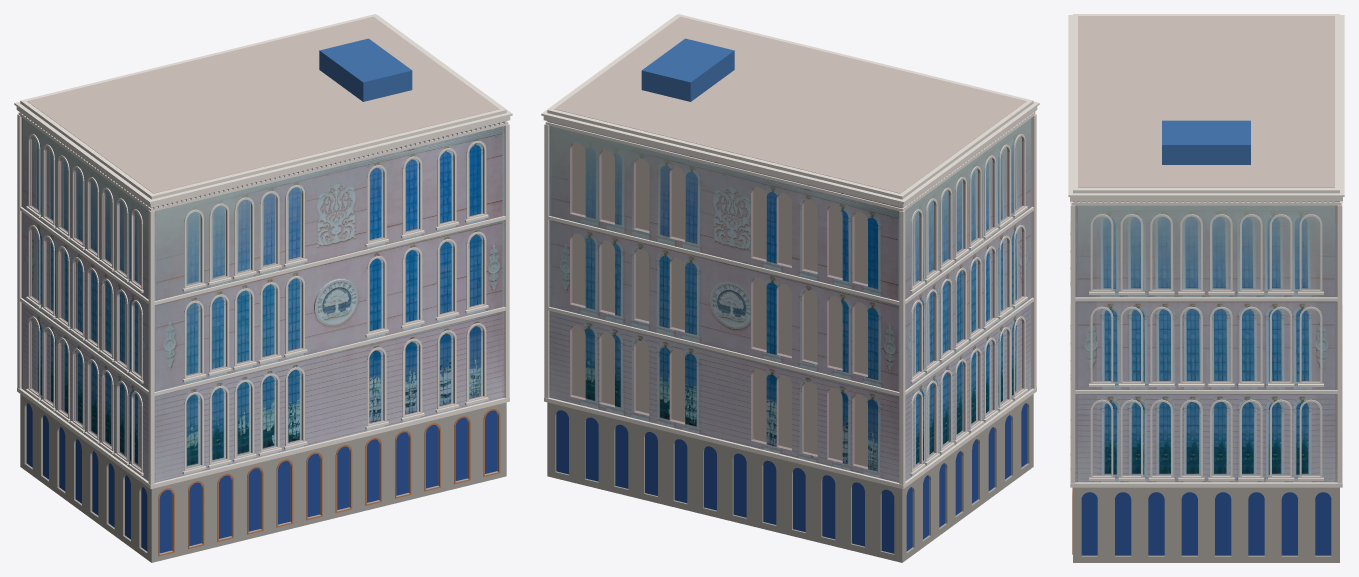
File: university-building-sm.glb
3 renders of one model, left to right at view 1: azimuth 30°, elevation 25°; view 2: azimuth 150°, elevation 25°; view 3: azimuth 270°, elevation 25°, orthographic.
Parts seen in each view (by area): view 1: UniversityBuilding; view 2: UniversityBuilding; view 3: UniversityBuilding.
Boxes of the visible parts, x1,y1,x2,y2 form: UniversityBuilding: (14,14,512,562); UniversityBuilding: (541,14,1039,562); UniversityBuilding: (1068,14,1344,562).
Bounding box in the file's own units: 67.03 × 68.2 × 43.44.
9 materials, 2 textured.
